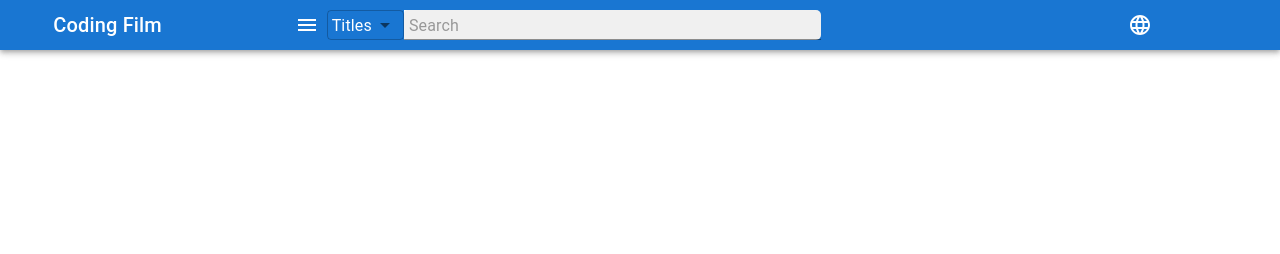
MobileDrawerContainer › Click on Top 250 movies
This screenshot has width=1280, height=254.
What coordinates should you click on to do the following:
click the button named "menu button"
I would click on:
 (307, 25)
Its box is [287,10,327,40].
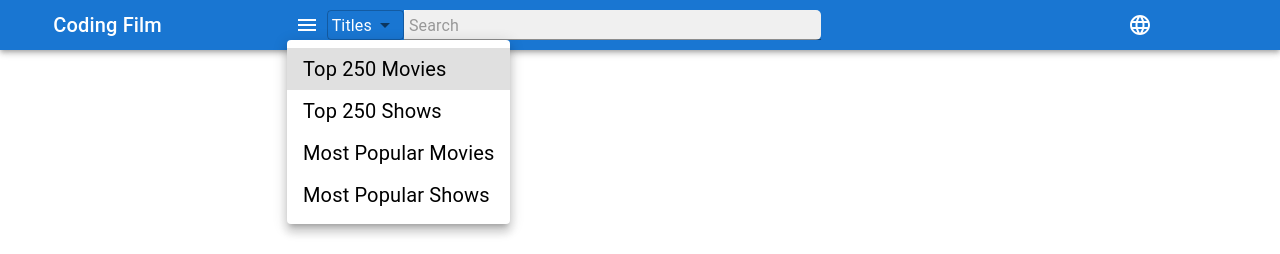
What coordinates should you click on to do the following:
click the link "Top 250 Movies"
I would click on:
 (375, 69)
Its box is [303,54,446,84].
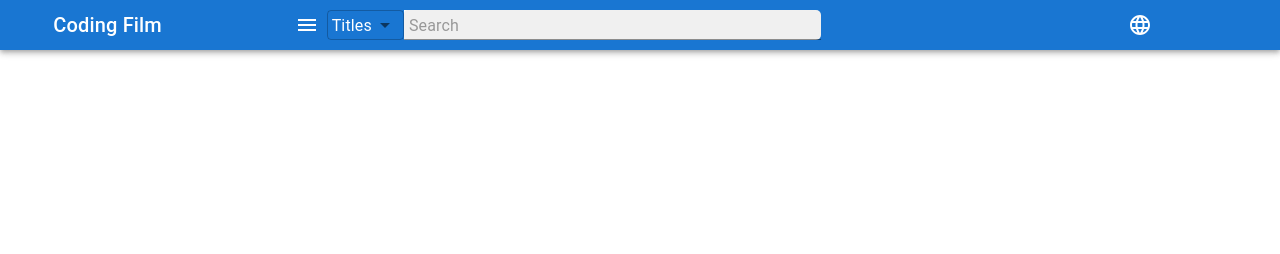
Now the menu is gone
